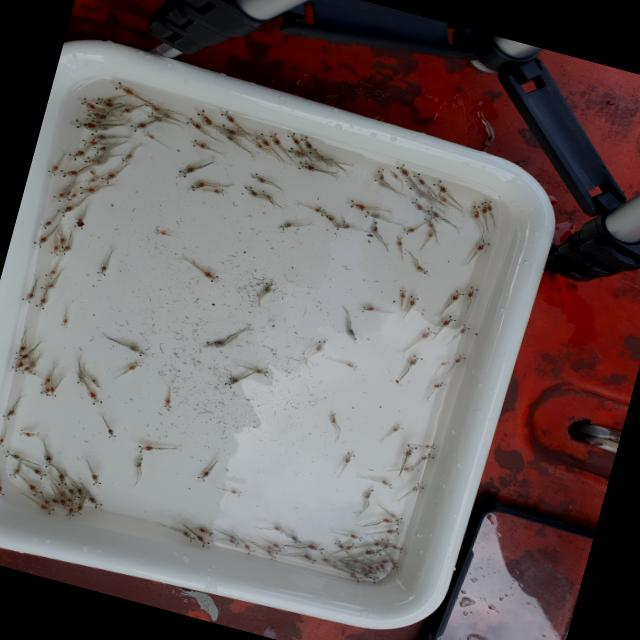babyshrimp: (190, 105, 214, 128), (71, 118, 99, 132), (112, 81, 135, 96), (214, 127, 235, 143), (124, 344, 148, 358), (417, 325, 436, 342), (241, 184, 261, 200), (347, 197, 368, 212), (400, 440, 417, 458), (33, 294, 51, 311), (311, 336, 329, 353), (220, 123, 241, 137), (98, 171, 119, 185), (19, 289, 36, 306), (202, 337, 226, 349), (75, 97, 97, 110), (186, 117, 206, 131), (176, 165, 196, 179), (285, 147, 308, 159), (394, 160, 410, 177), (87, 389, 103, 406), (86, 494, 103, 510), (30, 234, 48, 249), (30, 466, 48, 481), (249, 171, 269, 184), (55, 204, 75, 217), (38, 383, 58, 396), (406, 352, 423, 367), (449, 288, 464, 305), (412, 170, 427, 187), (297, 161, 320, 172), (193, 534, 211, 548), (343, 326, 357, 344), (473, 239, 491, 253), (69, 148, 87, 162), (221, 374, 239, 388), (144, 103, 163, 116), (91, 144, 113, 155), (422, 216, 437, 232), (426, 205, 442, 220), (267, 132, 282, 148), (219, 109, 235, 124), (92, 99, 116, 109), (200, 270, 220, 282), (28, 481, 43, 497), (249, 137, 266, 151), (38, 280, 56, 293), (38, 502, 56, 515), (37, 374, 52, 389), (408, 198, 424, 212), (431, 180, 447, 194), (257, 133, 273, 147), (42, 453, 55, 470), (89, 471, 102, 488), (250, 366, 270, 377), (78, 185, 99, 195), (408, 481, 427, 492), (190, 138, 209, 149), (189, 180, 208, 191), (413, 264, 429, 277), (306, 542, 323, 554), (361, 486, 373, 503), (377, 478, 394, 490), (332, 221, 352, 231), (363, 210, 383, 220), (130, 121, 150, 131), (59, 168, 79, 178), (286, 131, 300, 145), (45, 163, 59, 177), (66, 487, 80, 501), (372, 177, 387, 190), (51, 189, 66, 202), (180, 530, 196, 542), (341, 450, 353, 466), (362, 548, 383, 557), (388, 543, 405, 554), (276, 220, 293, 231), (127, 360, 144, 371), (3, 448, 20, 459), (302, 552, 317, 564), (145, 111, 160, 123), (94, 94, 114, 103), (88, 132, 106, 142), (72, 215, 84, 230), (95, 262, 107, 277), (14, 342, 26, 357), (105, 425, 117, 440), (0, 409, 15, 421), (195, 470, 210, 482), (440, 315, 456, 326), (15, 353, 31, 364), (196, 526, 215, 535), (418, 452, 437, 461), (79, 137, 98, 146), (357, 303, 374, 313), (399, 225, 416, 235), (116, 105, 133, 115), (466, 285, 479, 298), (240, 543, 254, 555), (321, 210, 335, 222), (300, 135, 312, 149), (261, 279, 273, 293), (90, 375, 102, 389), (483, 199, 494, 214), (56, 317, 71, 328), (57, 471, 68, 486), (382, 517, 400, 526), (18, 428, 36, 437), (270, 541, 286, 551), (386, 512, 402, 522), (456, 323, 469, 335), (406, 181, 419, 193), (259, 190, 272, 202), (7, 467, 20, 479), (478, 202, 489, 216), (38, 219, 52, 230), (72, 500, 83, 514), (345, 360, 359, 371), (384, 526, 401, 535), (8, 362, 25, 371), (224, 538, 239, 548), (61, 240, 71, 255), (47, 384, 57, 399), (399, 464, 415, 473), (407, 295, 419, 307), (131, 457, 143, 469), (63, 506, 74, 519), (288, 534, 302, 544), (266, 544, 280, 554), (264, 550, 278, 560), (120, 153, 134, 163), (49, 243, 59, 257), (389, 557, 399, 571), (472, 204, 480, 221), (77, 372, 85, 389), (163, 395, 172, 410), (369, 221, 379, 234), (209, 188, 225, 196), (58, 236, 66, 252), (137, 444, 153, 452), (433, 192, 444, 203), (453, 354, 465, 364), (387, 169, 399, 179), (376, 168, 385, 181), (43, 270, 56, 279), (270, 526, 285, 533), (329, 410, 336, 425), (391, 424, 404, 432), (398, 288, 406, 301), (229, 489, 242, 497), (426, 228, 436, 238), (42, 498, 53, 507), (312, 206, 324, 214), (144, 132, 156, 140), (154, 227, 166, 235), (25, 369, 37, 377), (350, 534, 363, 541), (422, 442, 435, 449), (432, 381, 445, 388), (83, 178, 96, 185), (0, 436, 8, 447), (396, 235, 404, 245), (68, 191, 76, 201), (227, 534, 238, 540), (0, 485, 5, 497), (440, 361, 450, 366)
